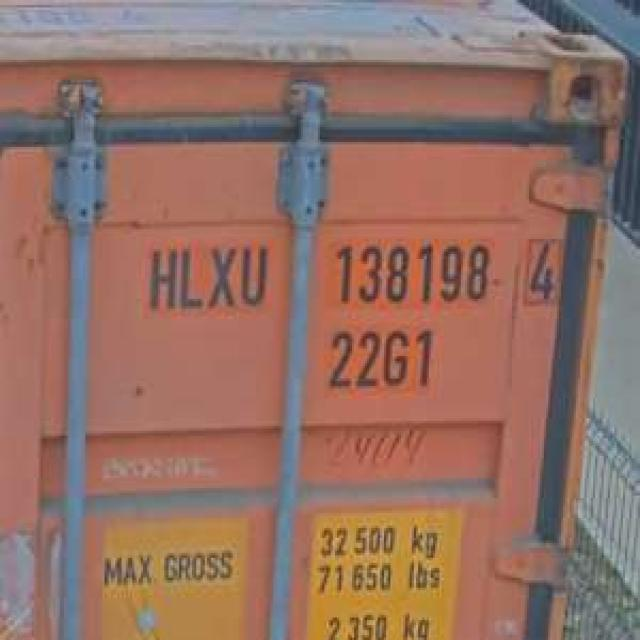dv: (518, 229, 564, 304)
owner: (141, 234, 271, 316)
serial: (326, 237, 493, 311)
size: (324, 321, 438, 396)
